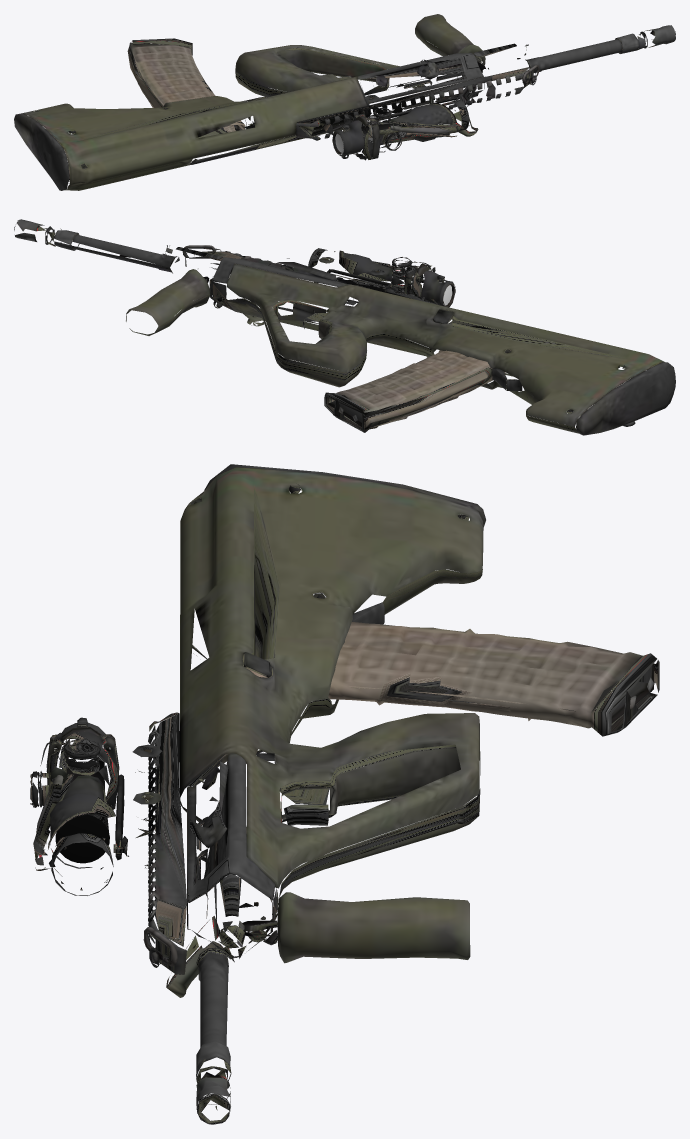
Rendered from w_aug.glb.
The picture shows the model from 3 angles, top to bottom: view 1: azimuth 30°, elevation 25°; view 2: azimuth 150°, elevation 25°; view 3: azimuth 270°, elevation 25°; orthographic projection. The views are drawn at different scales.
Parts seen in each view (by area): view 1: w_aug; view 2: w_aug; view 3: w_aug.
Part boxes in pixels (x1,y1,x2,y2): w_aug: (14, 14, 675, 190); w_aug: (14, 219, 675, 435); w_aug: (30, 464, 659, 1124).
Bounding box in the file's own units: 0.9464 × 0.1168 × 0.4228.
3 materials, 3 textured.
